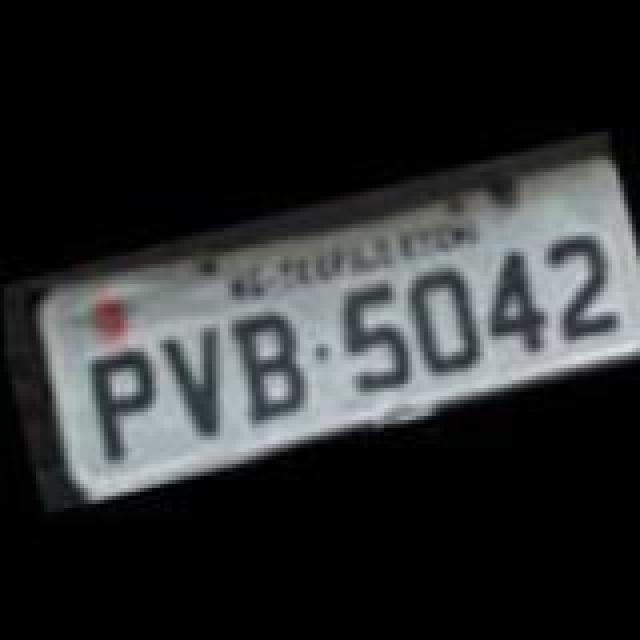2: (532, 222, 624, 346)
4: (468, 238, 560, 370)
5: (324, 276, 416, 404)
B: (220, 298, 316, 422)
O: (398, 262, 486, 382)
P: (74, 338, 166, 462)
V: (150, 312, 242, 444)
